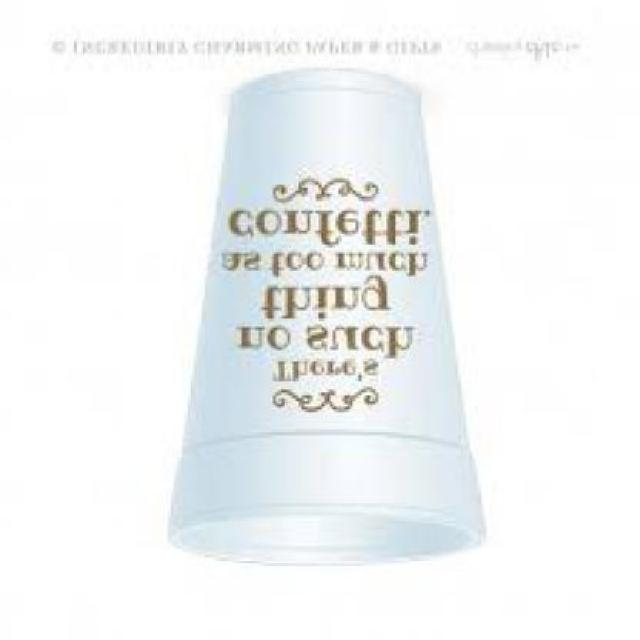PAPER: (164, 74, 478, 572)
